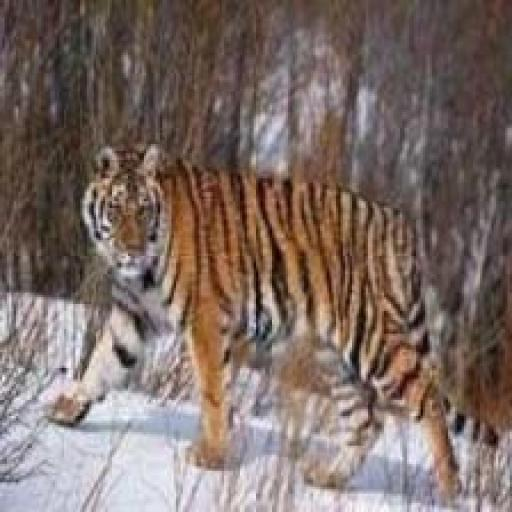Tiger: (46, 130, 497, 503)
